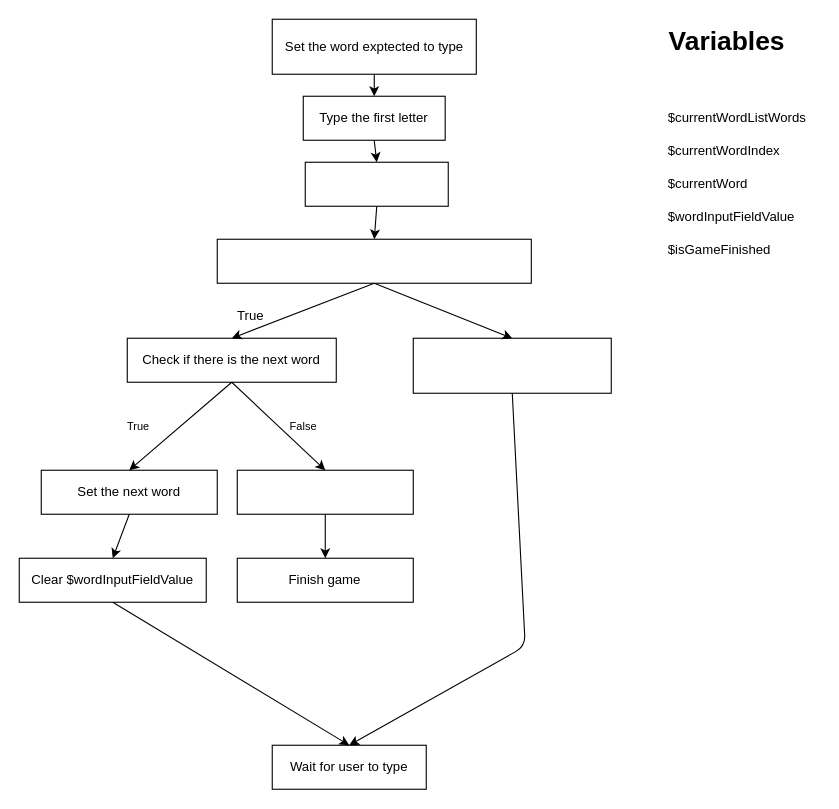
This 839x809 diagram has some shape labels left out. The shapes that lost their labels are listed below. From the top down, each one's centre as x and y in pixels, then its label:
At (376,183): "Start time recording".
At (373,260): "Check if $currentWord === $inputFieldValue".
At (511,365): "Highlight each letter of $currentWord in Green or Red".
At (324,491): "Stop time recording".
